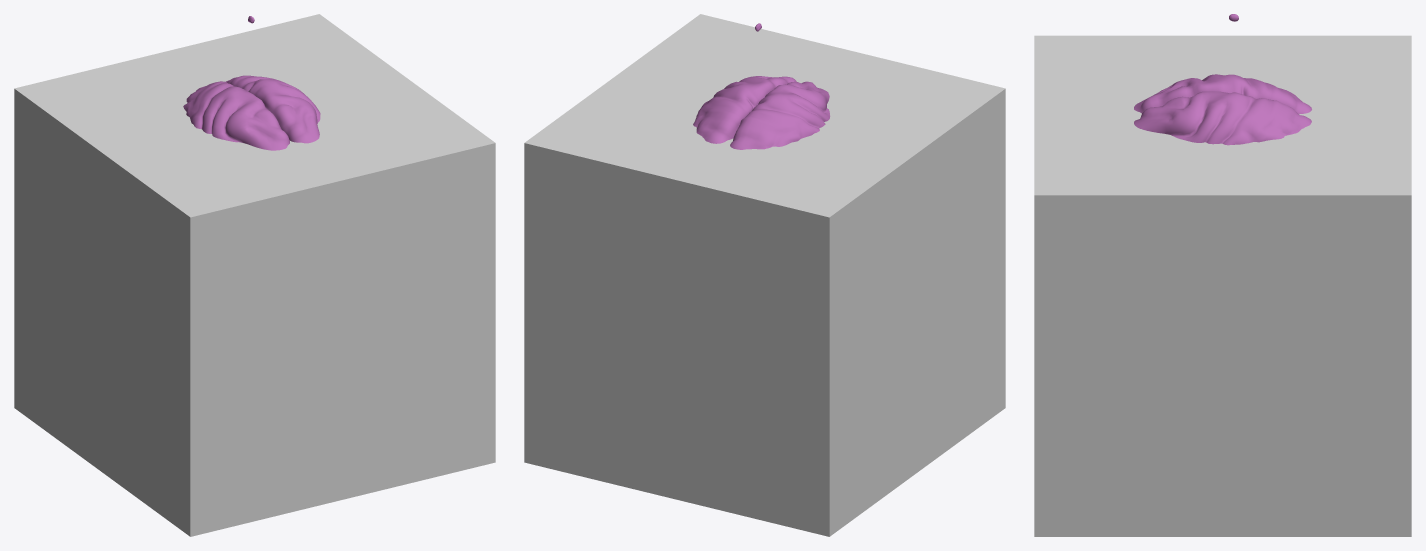
File: brain.glb
3 views of the same model, side by side, from view 1: azimuth 30°, elevation 25°; view 2: azimuth 150°, elevation 25°; view 3: azimuth 270°, elevation 25° (orthographic). The views are drawn at different scales.
Parts seen in each view (by area): view 1: Cube, V1_1:jianmian_03:Group1; view 2: Cube, V1_1:jianmian_03:Group1; view 3: Cube, V1_1:jianmian_03:Group1.
Boxes of the visible parts, x1,y1,x2,y2 form: Cube: (14, 14, 495, 536); V1_1:jianmian_03:Group1: (183, 75, 320, 150); Cube: (524, 14, 1005, 536); V1_1:jianmian_03:Group1: (693, 76, 830, 149); Cube: (1034, 35, 1411, 536); V1_1:jianmian_03:Group1: (1134, 74, 1311, 145).
Size of the model in its own units: 2 by 2.6 by 2.
